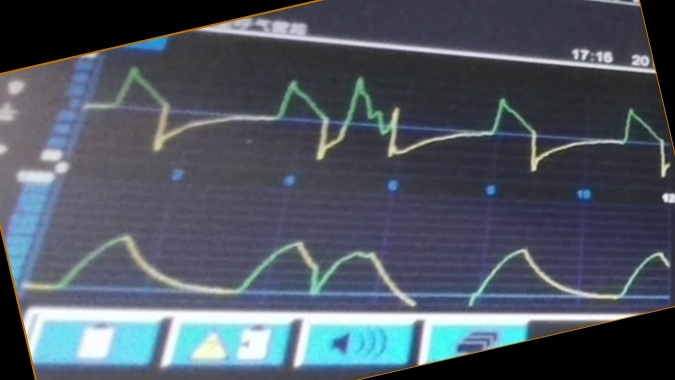Double_Triggering Flow: (103, 75, 655, 172)
Double_Triggering Volume: (59, 233, 668, 304)
